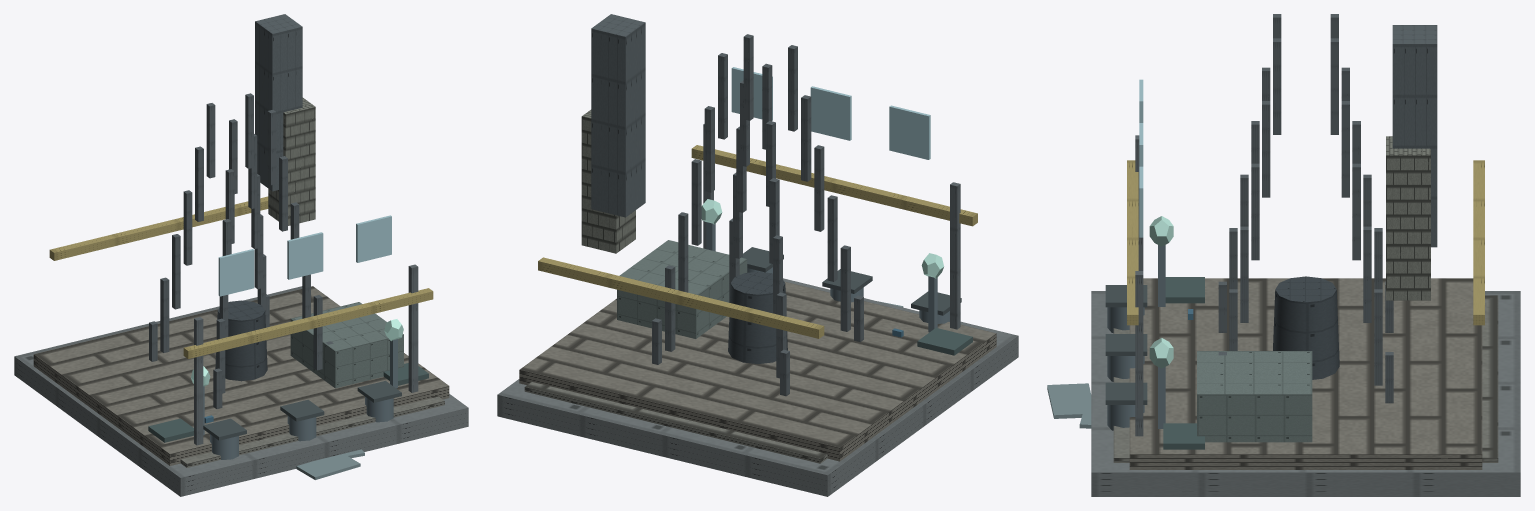
File: procedural_oilwell@6.glb
3 renders of one model, left to right at view 1: azimuth 30°, elevation 25°; view 2: azimuth 150°, elevation 25°; view 3: azimuth 270°, elevation 25°, orthographic. The views are drawn at different scales.
Parts seen in each view (by area): view 1: part_0, part_24, part_1, part_25, part_3, part_31, part_30, part_2, part_29, part_21, part_26, part_27 (+11 smaller); view 2: part_0, part_1, part_24, part_25, part_3, part_29, part_21, part_2, part_30, part_31, part_26, part_27 (+3 smaller); view 3: part_0, part_24, part_1, part_3, part_31, part_25, part_2, part_21, part_29, part_30, part_23, part_8 (+10 smaller).
Part boxes in pixels (x1,y1,x2,y2): part_0: (33, 286, 449, 465); part_24: (14, 286, 468, 496); part_1: (149, 93, 333, 408); part_25: (255, 14, 302, 191); part_3: (290, 302, 403, 388); part_31: (268, 97, 315, 225); part_30: (183, 288, 433, 358); part_2: (215, 300, 267, 381); part_29: (49, 196, 268, 260); part_21: (180, 396, 444, 467); part_26: (218, 249, 254, 296); part_27: (287, 232, 323, 279); part_0: (519, 281, 996, 461); part_1: (652, 34, 863, 396); part_24: (497, 278, 1018, 496); part_25: (591, 14, 645, 217); part_3: (617, 240, 747, 338); part_29: (538, 257, 824, 338); part_21: (524, 382, 827, 463); part_2: (728, 271, 787, 364); part_30: (691, 145, 977, 226); part_31: (581, 109, 635, 253); part_26: (889, 105, 930, 159); part_27: (810, 86, 851, 140); part_0: (1129, 278, 1482, 469); part_24: (1091, 291, 1520, 496); part_1: (1218, 14, 1393, 403); part_3: (1197, 351, 1312, 442); part_31: (1386, 136, 1430, 300); part_25: (1392, 25, 1437, 247); part_2: (1273, 276, 1339, 379); part_21: (1113, 295, 1498, 462); part_29: (1473, 160, 1484, 325); part_30: (1127, 160, 1138, 325); part_23: (1135, 271, 1143, 436); part_8: (1047, 383, 1091, 418).
Bounding box in the file's own units: 6.7 × 7.35 × 7.39.
Materials: 18 (10 with a texture image).
